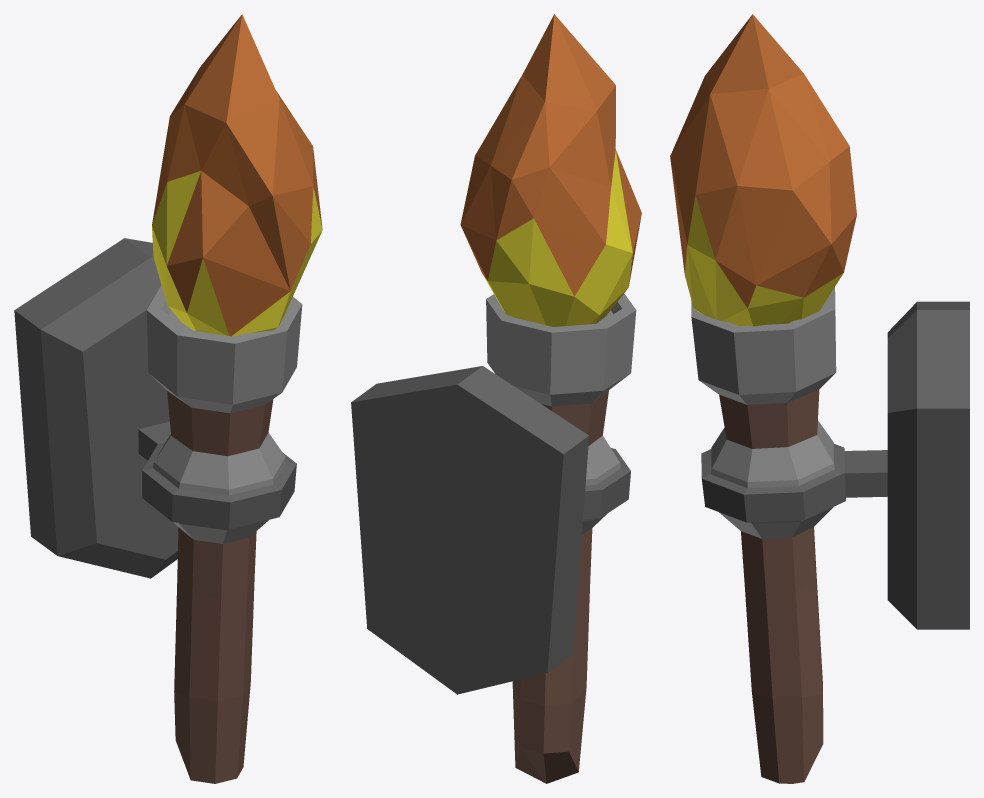
File: Wall_Torch.fbx
3 views of the same model, side by side, from view 1: azimuth 30°, elevation 25°; view 2: azimuth 150°, elevation 25°; view 3: azimuth 270°, elevation 25° (orthographic). The views are drawn at different scales.
Visible parts, largest first — view 1: Cube.011; view 2: Cube.011; view 3: Cube.011.
Part boxes in pixels (bbox=[...]): Cube.011: bbox=[14, 14, 322, 783]; Cube.011: bbox=[351, 14, 641, 783]; Cube.011: bbox=[670, 14, 969, 783].
Size of the model in its own units: 168 by 570 by 199.
